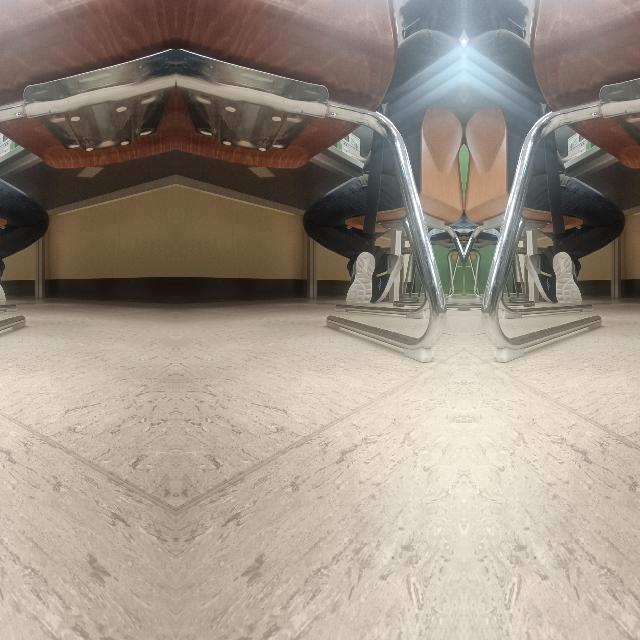obstacle: (324, 222, 451, 364), (478, 222, 604, 364), (0, 222, 26, 363)
